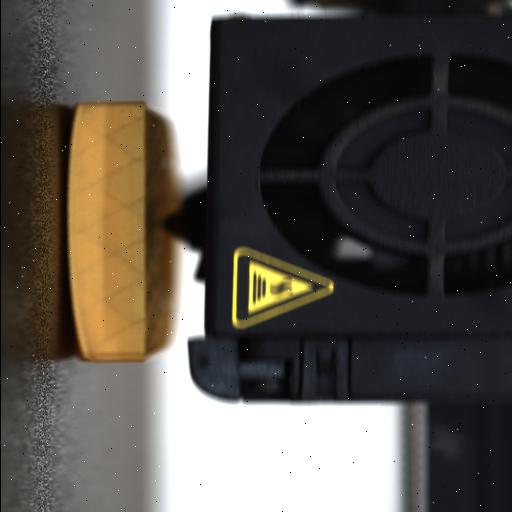warp: (62, 316, 96, 366), (64, 102, 86, 146)
